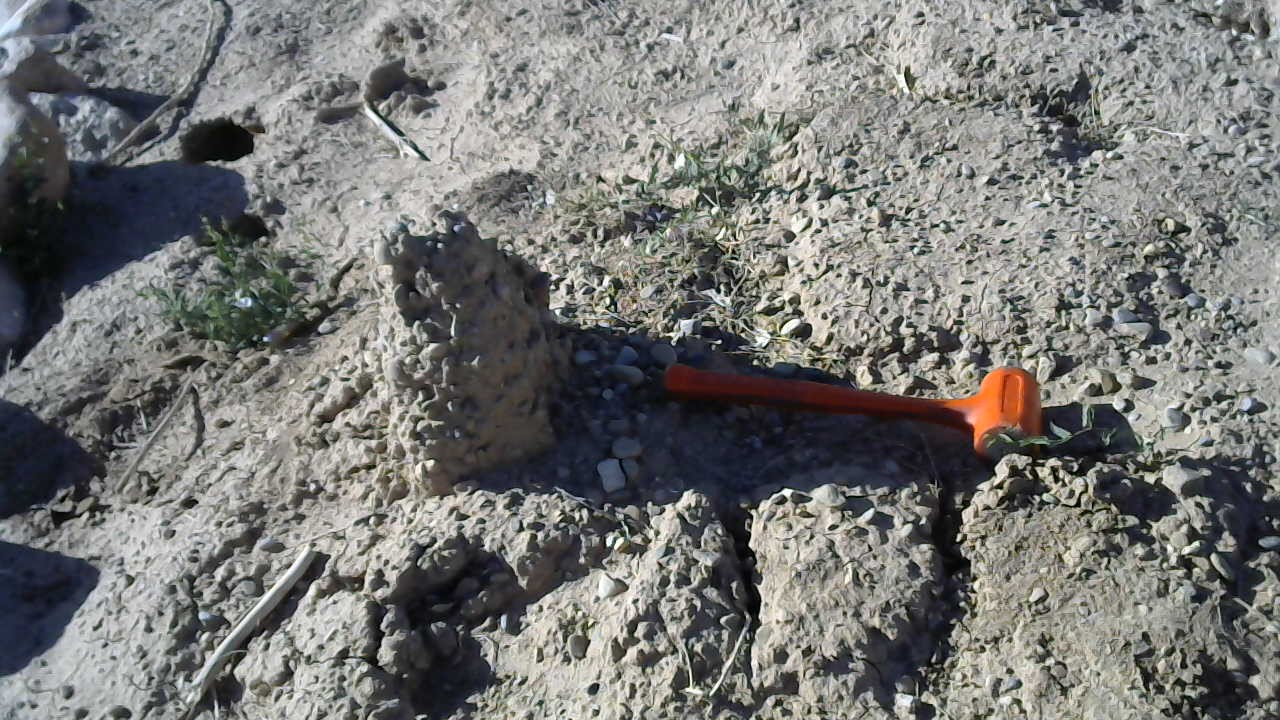hammer: (628, 358, 1053, 464)
